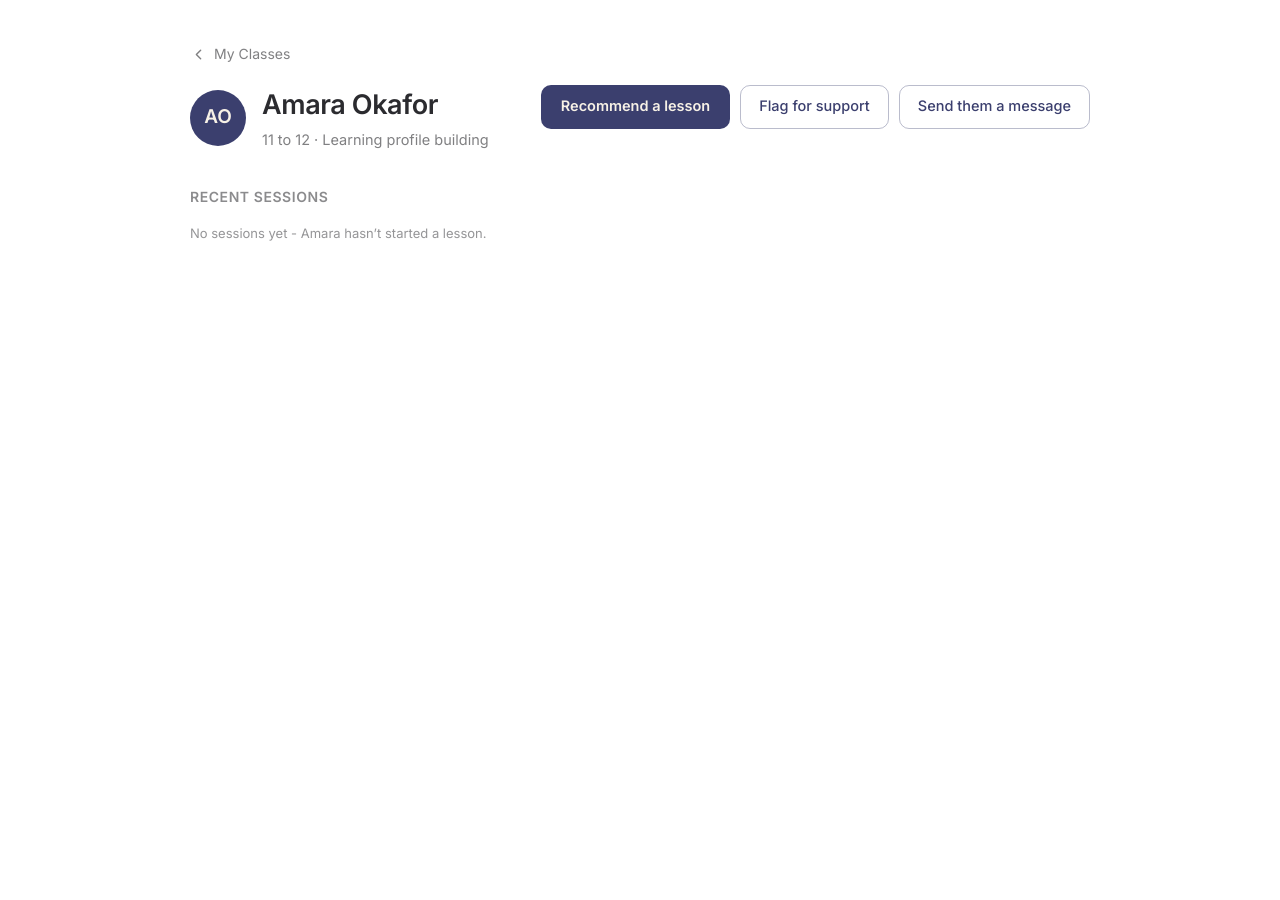
Test: the sheet, from this screen › closes without sending when cancelled
The width and height of the screenshot is (1280, 900).
Click the button "Flag for support": [814, 106] box x1=740 y1=84 x2=889 y2=128
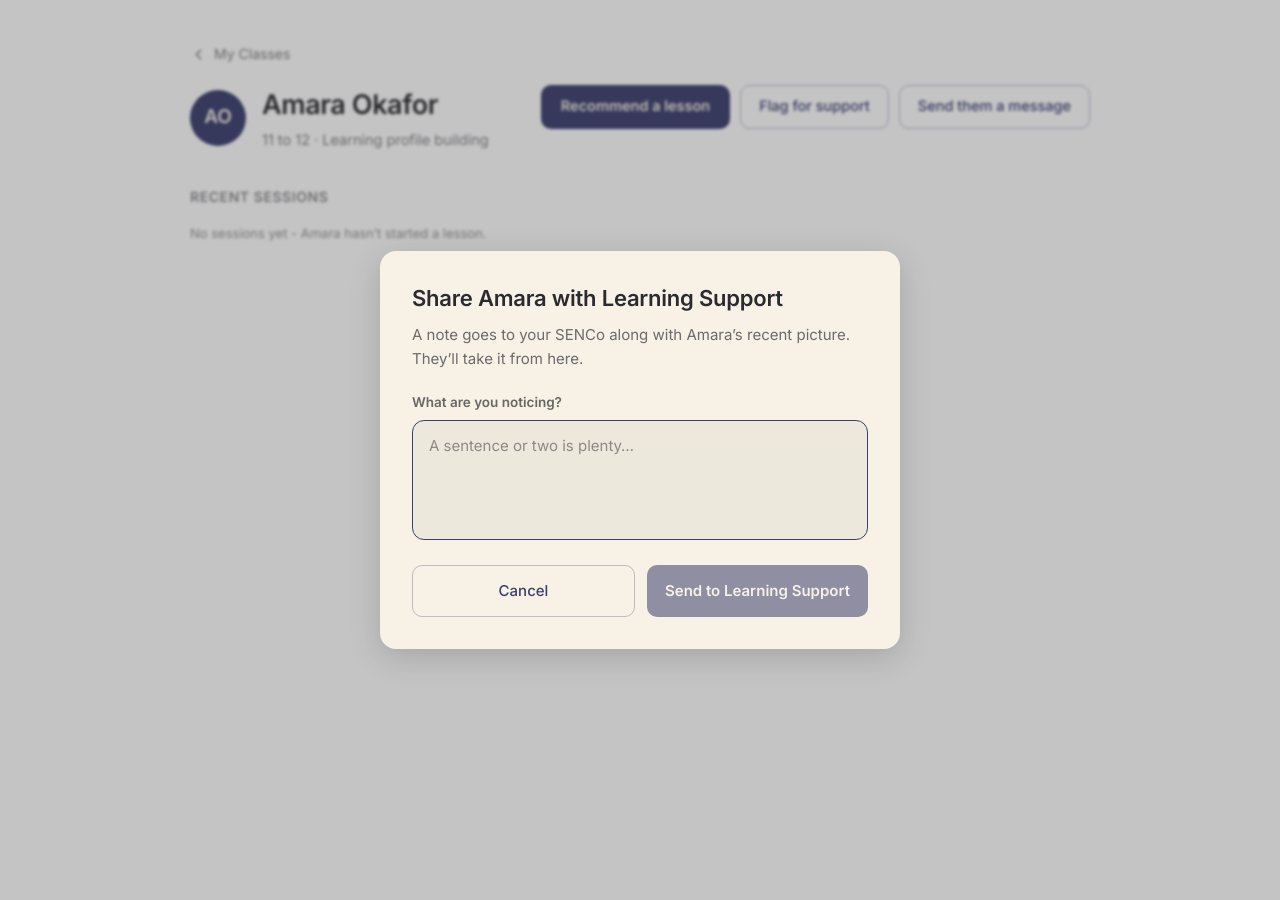
In the text box: [640, 480] box x1=412 y1=420 x2=868 y2=540, type "Half a thought."
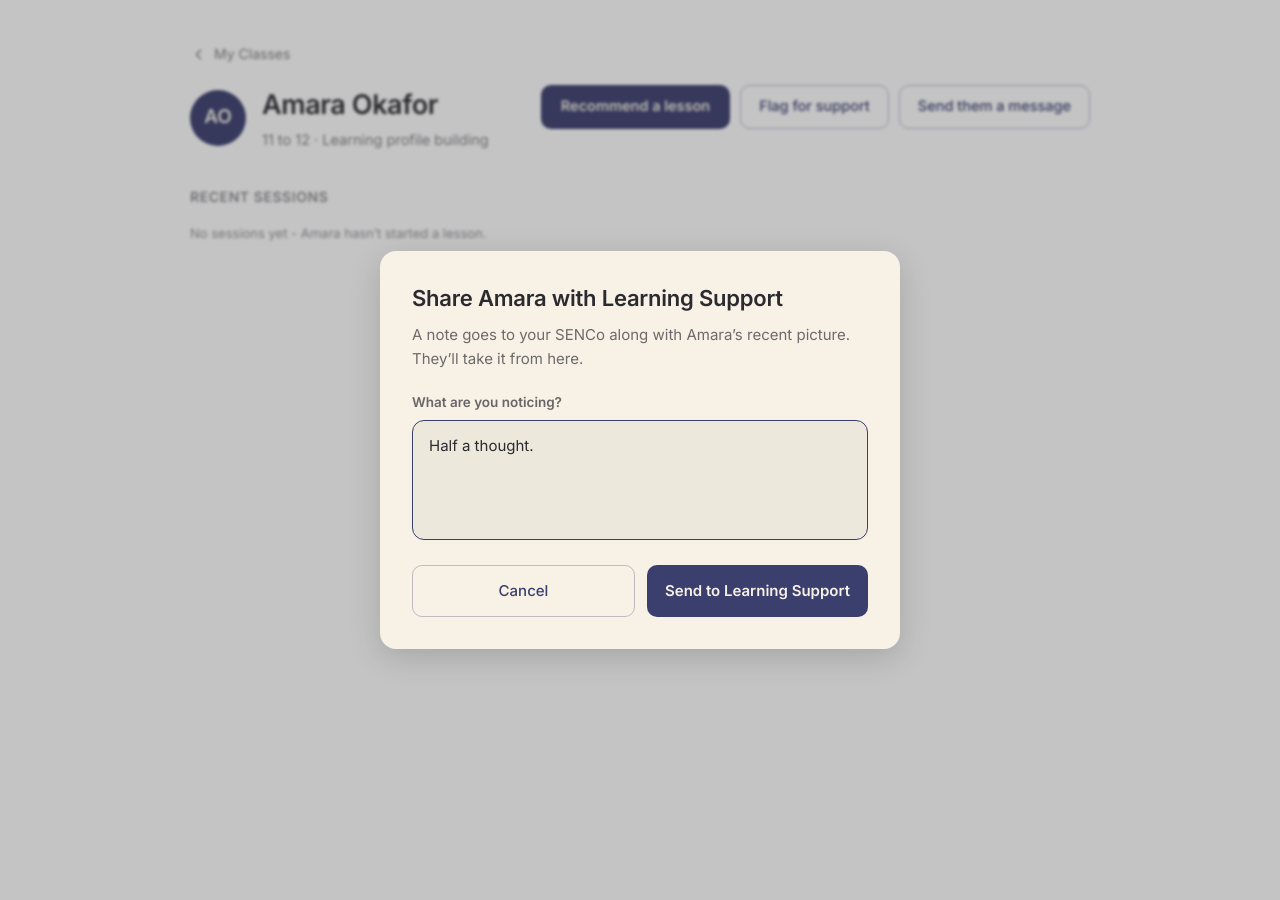
Click the button "Cancel": [524, 591] box x1=412 y1=565 x2=635 y2=617
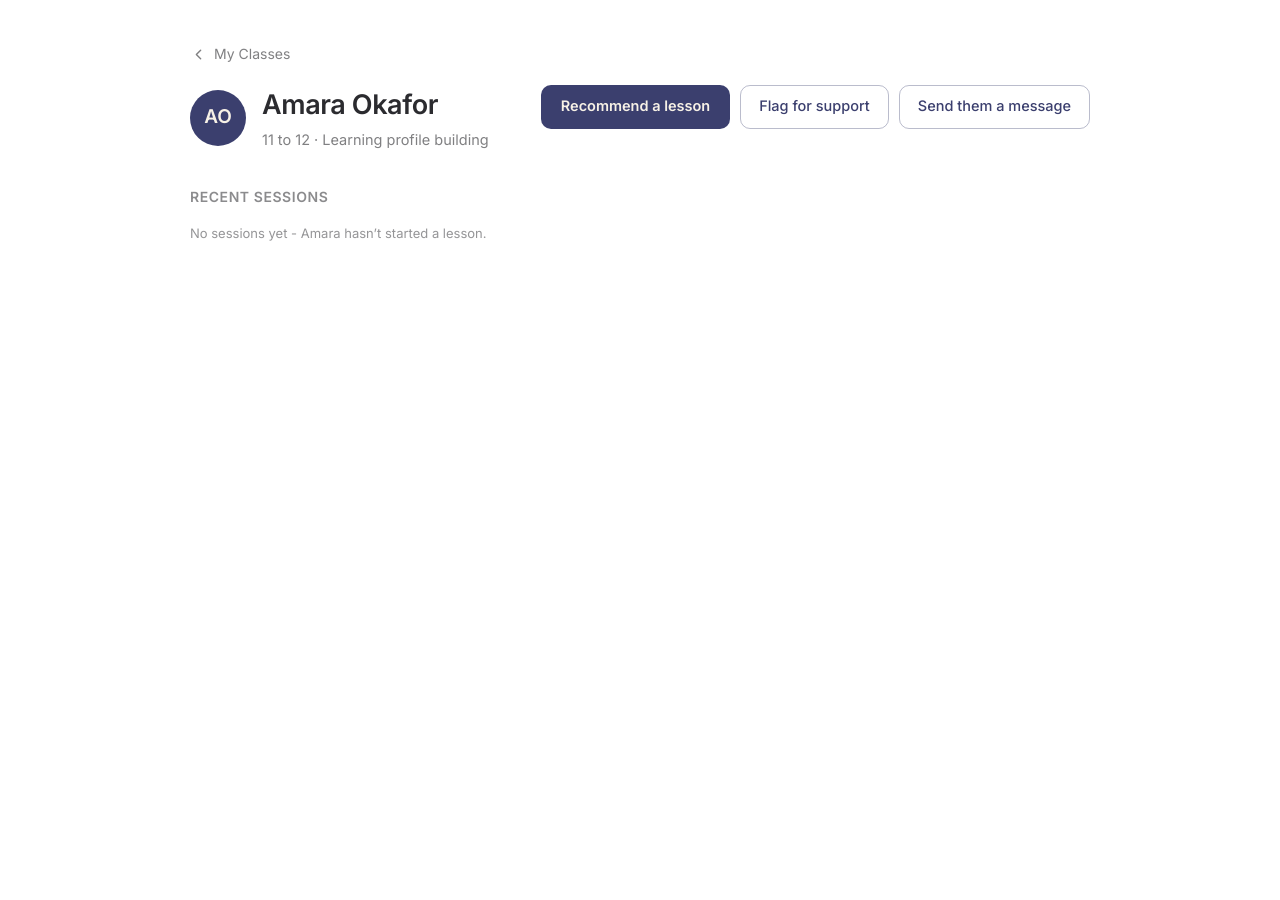
Now the dialog is gone
